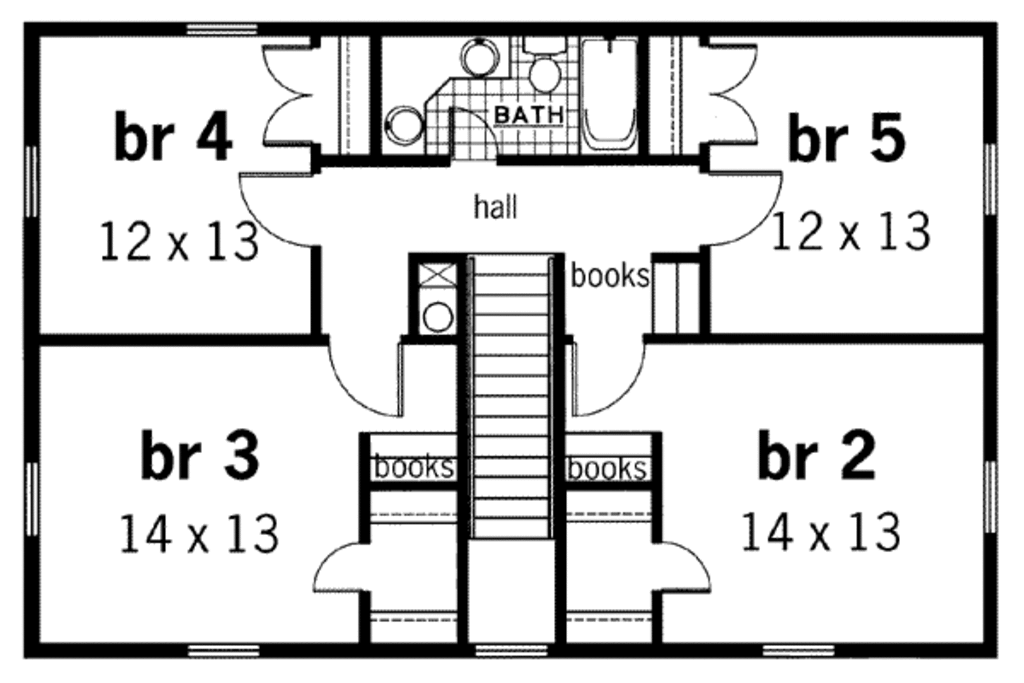door: (326, 331, 408, 418), (258, 42, 319, 153), (702, 169, 785, 245), (704, 41, 762, 147), (239, 168, 311, 252), (571, 338, 646, 415), (651, 539, 714, 600), (303, 536, 362, 597)
large_sink: (523, 35, 570, 93)
small_sink: (380, 91, 429, 154), (441, 39, 511, 79)
stairs: (468, 252, 555, 544)
tub: (580, 38, 641, 159)
windows: (183, 639, 273, 664), (978, 456, 1004, 539), (19, 140, 45, 223), (18, 460, 44, 541), (468, 639, 549, 663), (978, 140, 1002, 220), (750, 639, 838, 660), (182, 19, 262, 42)
